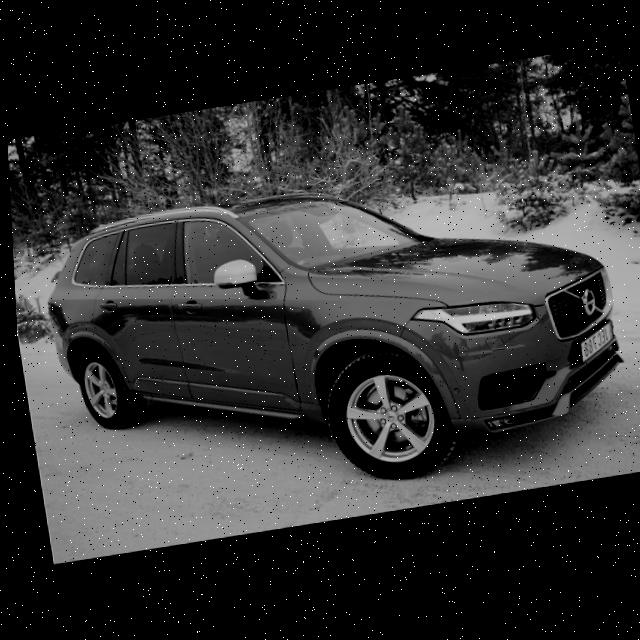license-plates: (581, 318, 616, 363)
